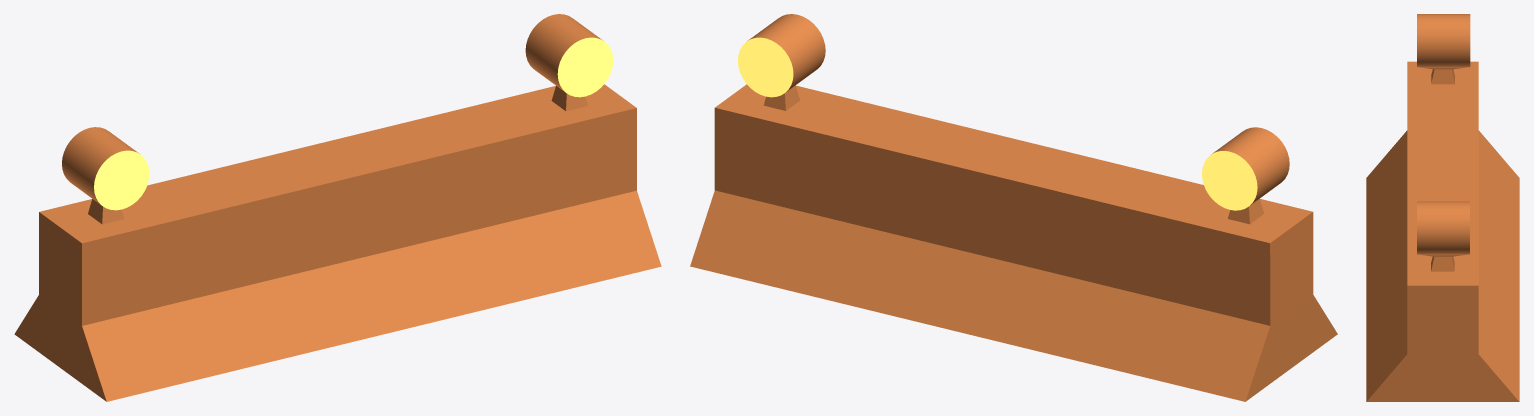
The model's file is FinalBarricade2.fbx.
3 renders of one model, left to right at view 1: azimuth 30°, elevation 25°; view 2: azimuth 150°, elevation 25°; view 3: azimuth 270°, elevation 25°, orthographic. The views are drawn at different scales.
Visible parts, largest first — view 1: Barricade_2_Scaled; view 2: Barricade_2_Scaled; view 3: Barricade_2_Scaled.
Part boxes in pixels (x1,y1,x2,y2): Barricade_2_Scaled: (14, 14, 661, 401); Barricade_2_Scaled: (690, 14, 1337, 401); Barricade_2_Scaled: (1366, 14, 1519, 401).
Size of the model in its own units: 2 by 0.7481 by 0.5773.
